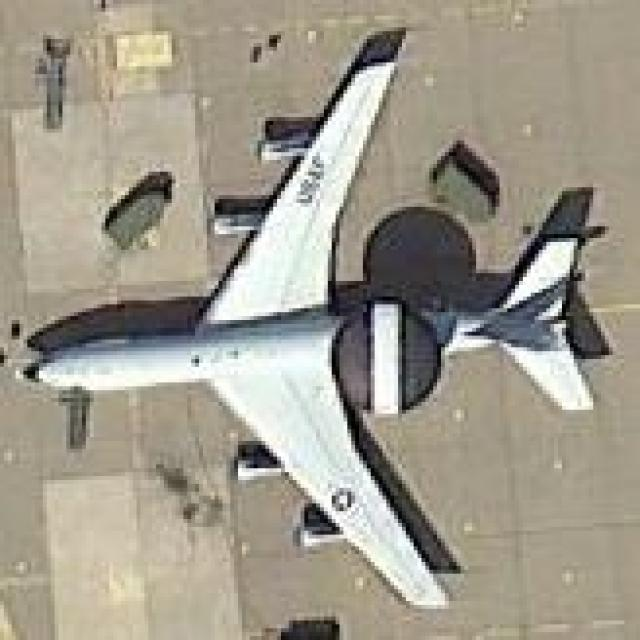E-3_TopDown: (15, 19, 612, 609)
